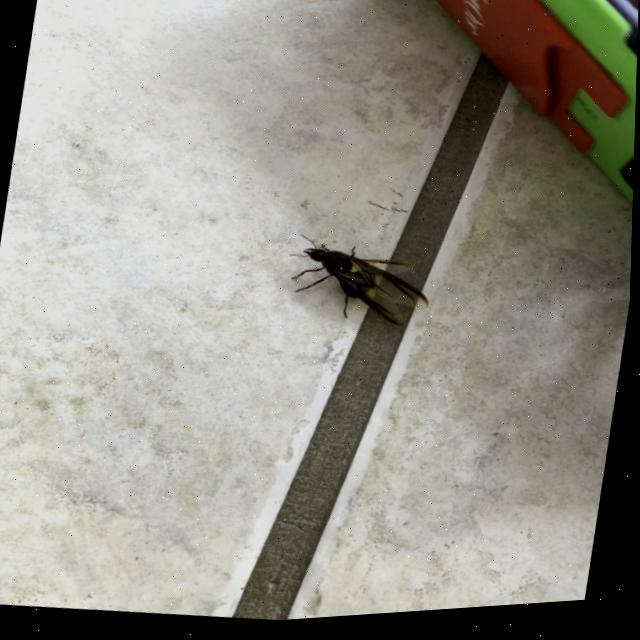Alive-Female-Alate: (280, 230, 441, 340)
